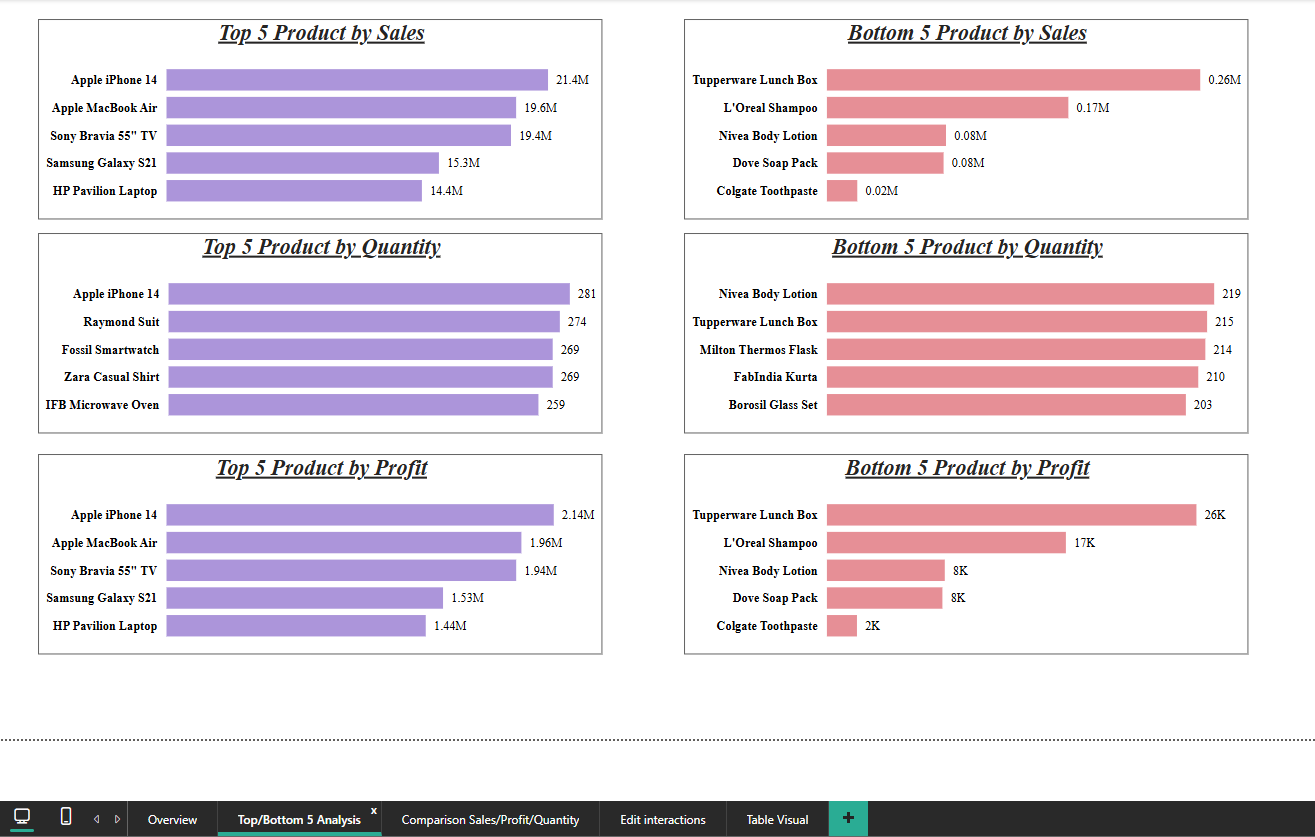

Layout of this report page (visuals, bound fields, positions):
{"tool":"powerbi","page":{"name":"Top/Bottom 5 Analysis","canvas":[1280,720],"ordinal":1},"visuals":[{"type":"barChart","title":"Top 5 Product by Sales","fields":{"Category":["Dim Product.Product Name"],"Y":["Sum(Fact Table.Net Sales    )"]},"box":[36.7,19.9,549.3,195],"z":0},{"type":"barChart","title":"Bottom 5 Product by Sales","fields":{"Category":["Dim Product.Product Name"],"Y":["Sum(Fact Table.Net Sales    )"]},"box":[665.7,19.9,549.3,195],"z":1000},{"type":"barChart","title":"Top 5 Product by Quantity","fields":{"Category":["Dim Product.Product Name"],"Y":["Sum(Fact Table.Units Sold)"]},"box":[36.7,227.5,549.3,195],"z":2000},{"type":"barChart","title":"Bottom 5 Product by Quantity","fields":{"Category":["Dim Product.Product Name"],"Y":["Sum(Fact Table.Units Sold)"]},"box":[665.7,227.5,549.3,195],"z":3000},{"type":"barChart","title":"Top 5 Product by Profit","fields":{"Category":["Dim Product.Product Name"],"Y":["Sum(Fact Table.Profit)"]},"box":[36.7,442.4,549.3,195],"z":4000},{"type":"barChart","title":"Bottom 5 Product by Profit","fields":{"Category":["Dim Product.Product Name"],"Y":["Sum(Fact Table.Profit)"]},"box":[665.7,442.4,549.3,195],"z":5000}]}

Visuals, with their boxes on the page's 1280x720 design canvas (x1, y1, x2, y2). These are canvas units, not pixel positions in the 1315x837 screenshot, which may show the page scaled, cropped or inside an application window:
"Top 5 Product by Sales" barChart: (x1=37, y1=20, x2=586, y2=215)
"Bottom 5 Product by Sales" barChart: (x1=666, y1=20, x2=1215, y2=215)
"Top 5 Product by Quantity" barChart: (x1=37, y1=228, x2=586, y2=422)
"Bottom 5 Product by Quantity" barChart: (x1=666, y1=228, x2=1215, y2=422)
"Top 5 Product by Profit" barChart: (x1=37, y1=442, x2=586, y2=637)
"Bottom 5 Product by Profit" barChart: (x1=666, y1=442, x2=1215, y2=637)
